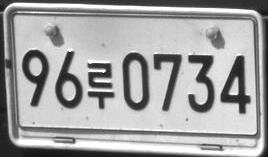0: (120, 51, 150, 111)
3: (187, 53, 215, 113)
4: (219, 55, 251, 114)
6: (54, 49, 82, 109)
7: (152, 53, 183, 111)
9: (21, 48, 50, 107)
루: (87, 62, 114, 110)
